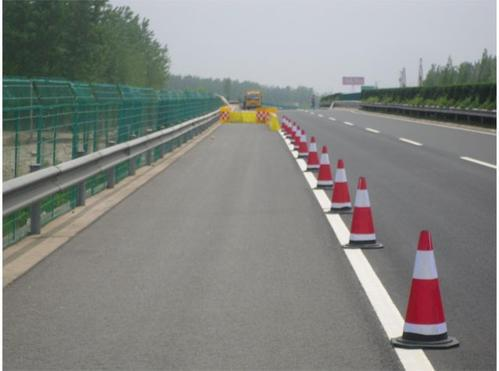cone_barrel: (394, 229, 454, 347), (346, 175, 380, 248), (329, 154, 351, 211), (313, 141, 334, 189), (305, 134, 318, 169), (296, 129, 307, 157)
